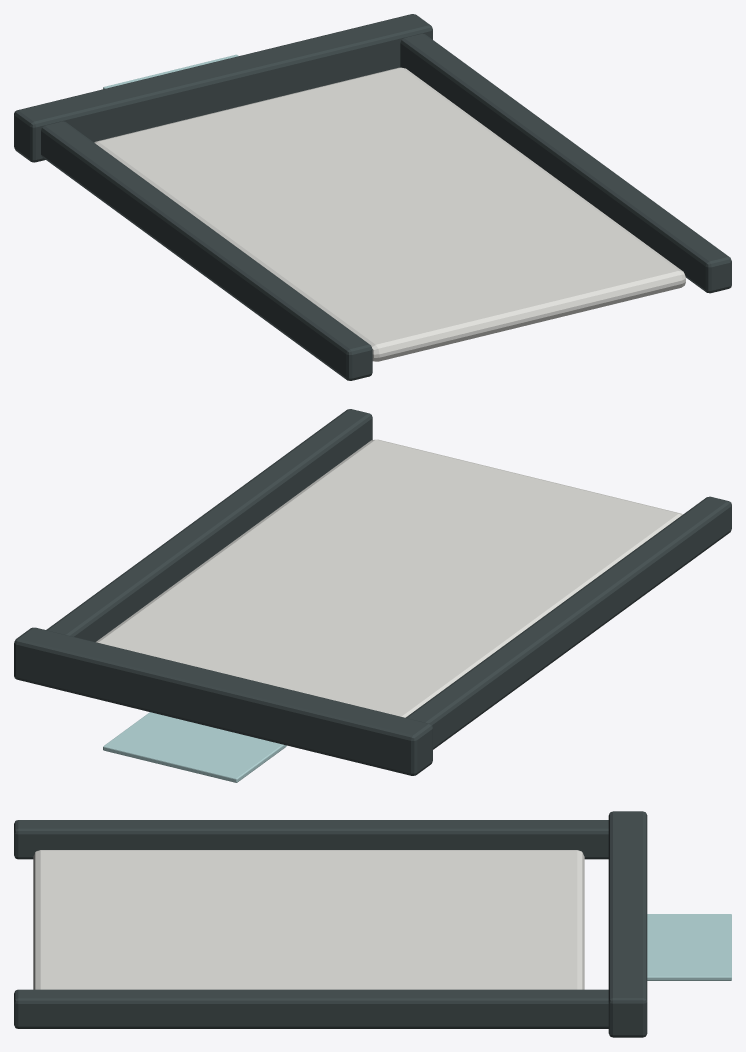
File: interior_sliding_door.glb
3 views of the same model, one above another, from view 1: azimuth 30°, elevation 25°; view 2: azimuth 150°, elevation 25°; view 3: azimuth 270°, elevation 25° (orthographic). The views are drawn at different scales.
Parts seen in each view (by area): view 1: SlidingDoorPanel, TrackHousing, FrameLeft, FrameRight; view 2: SlidingDoorPanel, TrackHousing, FrameLeft, FrameRight, DoorWindow; view 3: SlidingDoorPanel, FrameRight, FrameLeft, TrackHousing, DoorWindow.
Part boxes in pixels (x1,y1,x2,y2): SlidingDoorPanel: (94,67,685,361); TrackHousing: (14,14,432,162); FrameLeft: (41,121,372,380); FrameRight: (400,33,731,293); SlidingDoorPanel: (96,439,682,717); TrackHousing: (14,627,432,775); FrameLeft: (406,496,731,749); FrameRight: (46,409,372,641); DoorWindow: (103,712,286,782); SlidingDoorPanel: (33,850,584,989); FrameRight: (14,989,608,1028); FrameLeft: (14,820,608,859); TrackHousing: (608,811,647,1037); DoorWindow: (647,914,731,980).
Size of the model in its own units: 1.86 by 0.24 by 2.97.
